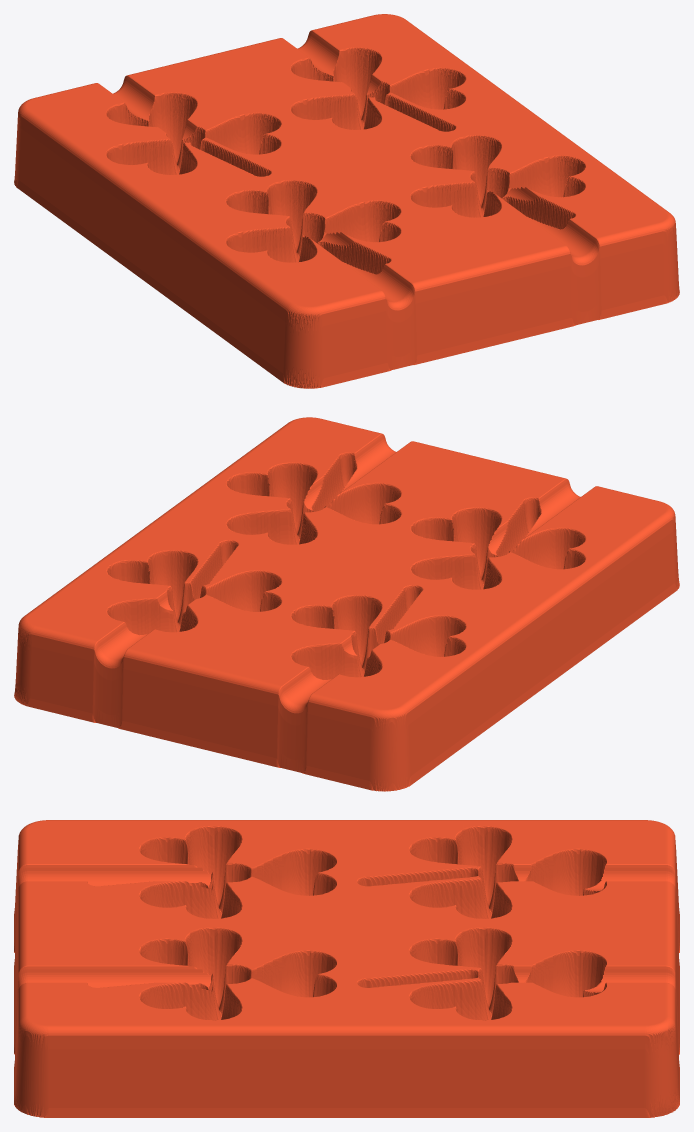
File: mold.glb
3 views of the same model, one above another, from view 1: azimuth 30°, elevation 25°; view 2: azimuth 150°, elevation 25°; view 3: azimuth 270°, elevation 25° (orthographic). The views are drawn at different scales.
Visible parts, largest first — view 1: geometry_0; view 2: geometry_0; view 3: geometry_0.
Boxes of the visible parts, left/top/right/bottom form: geometry_0: left=14, top=14, right=679, bottom=388; geometry_0: left=14, top=417, right=679, bottom=791; geometry_0: left=14, top=820, right=679, bottom=1117.
Size of the model in its own units: 0.1315 by 0.0245 by 0.171.
